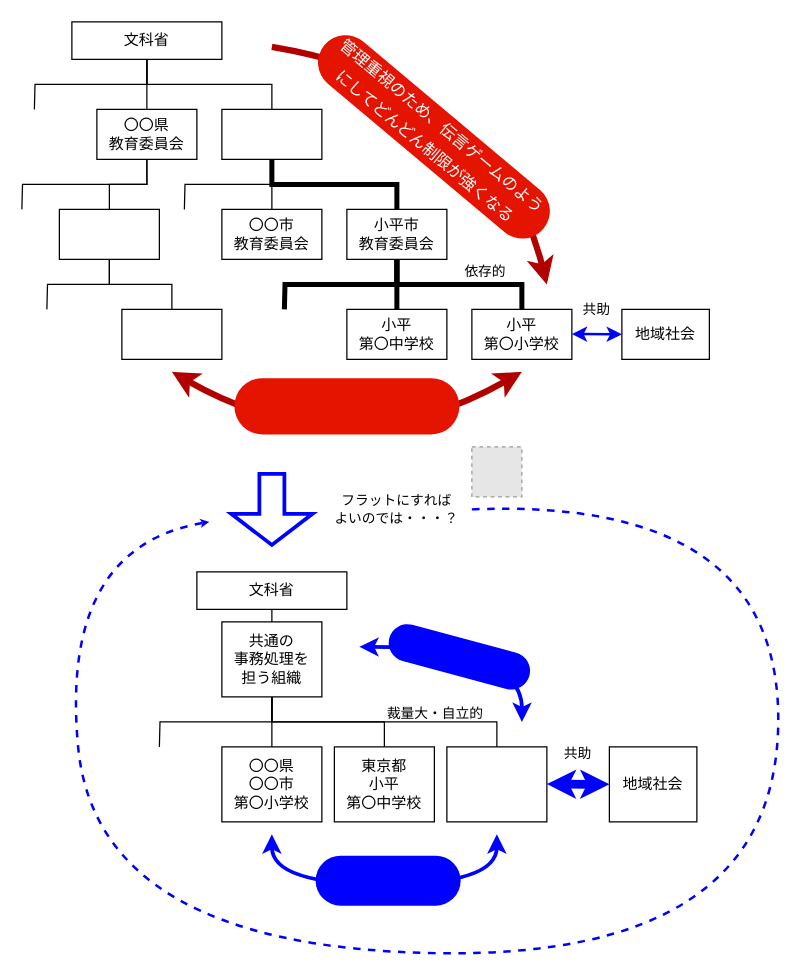
Some shapes in this 801 by 978 pixel diagram are drawn without their labels. Grey dashed boxes stand in for pictures. The shapes that lost their labels are listed below. From the top down, each one's centre as x and y in pixels, then its label:
the point at 271,133: 東京都 教育委員会
the point at 108,233: 〇〇町 教育委員会
the point at 171,333: 〇〇 小学校
the point at 346,406: 情報のやり取りや 交流がなかなかできない
the point at 459,656: 直接のやり取り
the point at 496,784: 東京都 小平 第〇小学校
the point at 387,880: 密度の濃い関係
